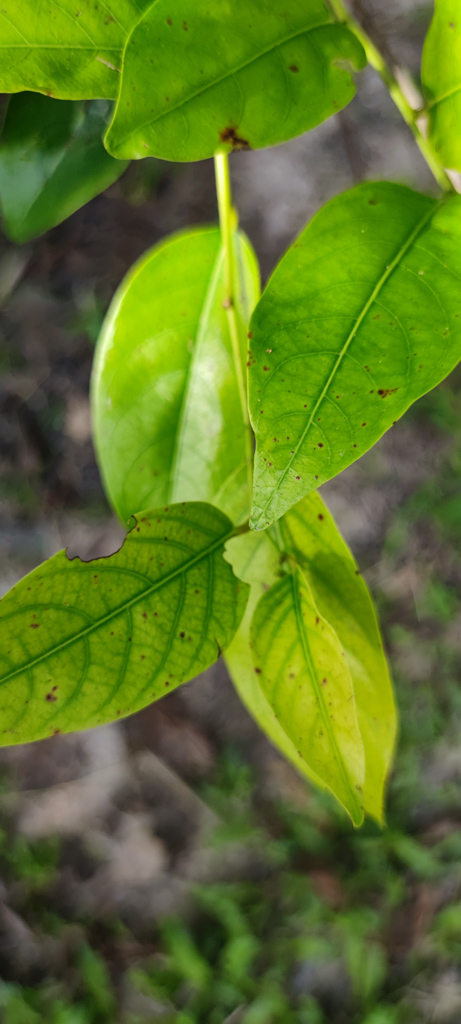Alternaria brassicicola: (247, 176, 457, 541), (3, 503, 245, 752), (243, 565, 374, 839)
Canker: (205, 111, 260, 157), (30, 678, 67, 704), (283, 52, 312, 79), (371, 380, 407, 400)
